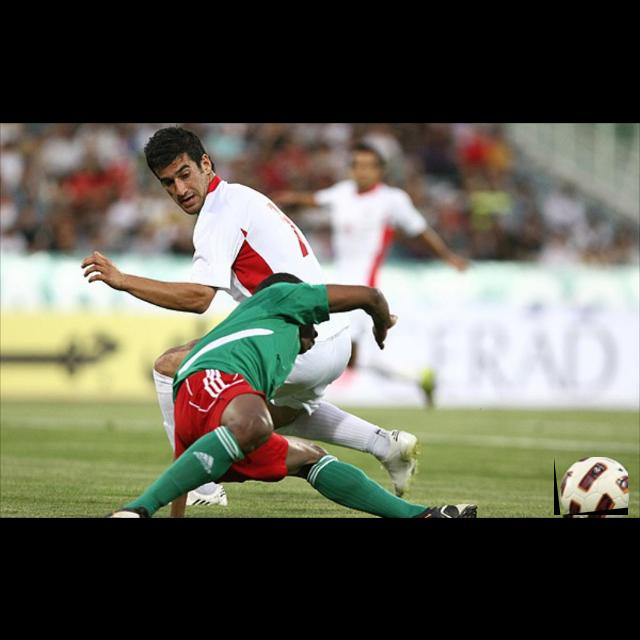Football: (554, 457, 628, 515)
